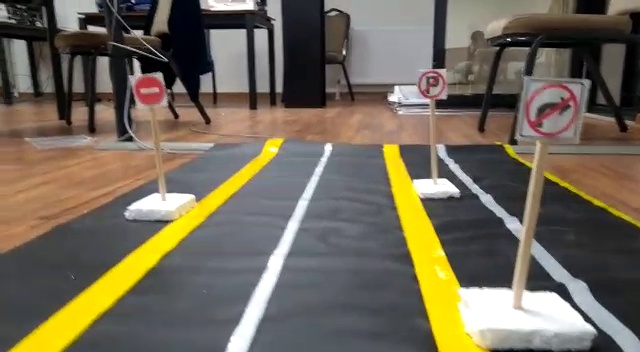girisi_olmayan_yol: (133, 72, 165, 109)
park_yapilmaz: (417, 69, 448, 102)
saga_donulmez: (523, 77, 580, 134)
